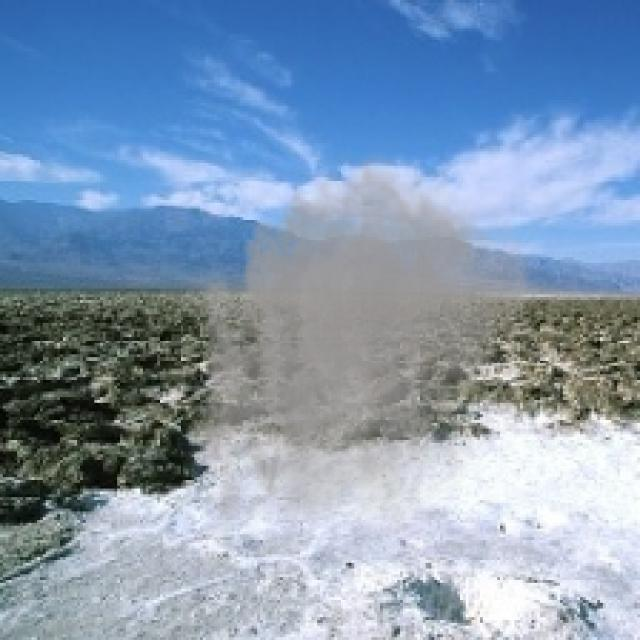smoke: (177, 140, 543, 560)
